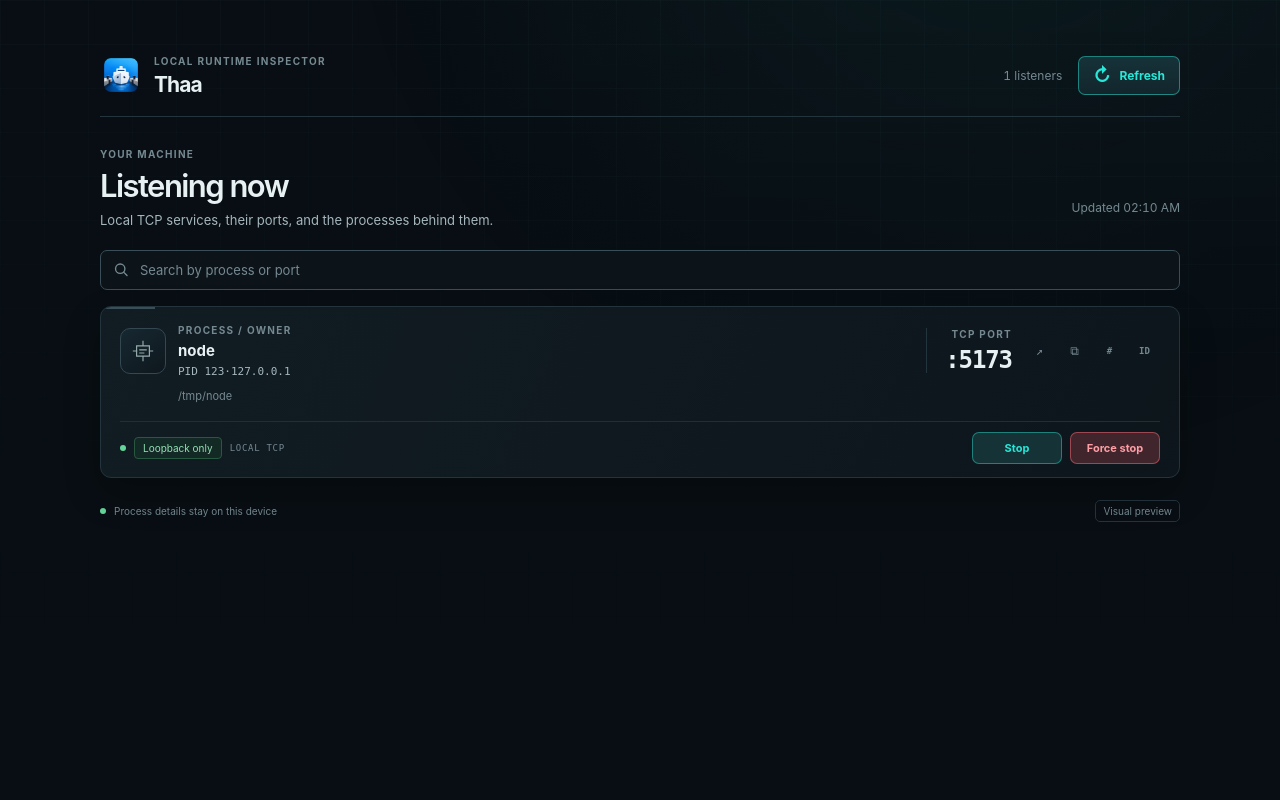
Test: runtime inspector › explains an identity mismatch and refreshes without retrying the action
This screenshot has width=1280, height=800.
Click the button "Stop": [1017, 448] box [972,432,1062,464]
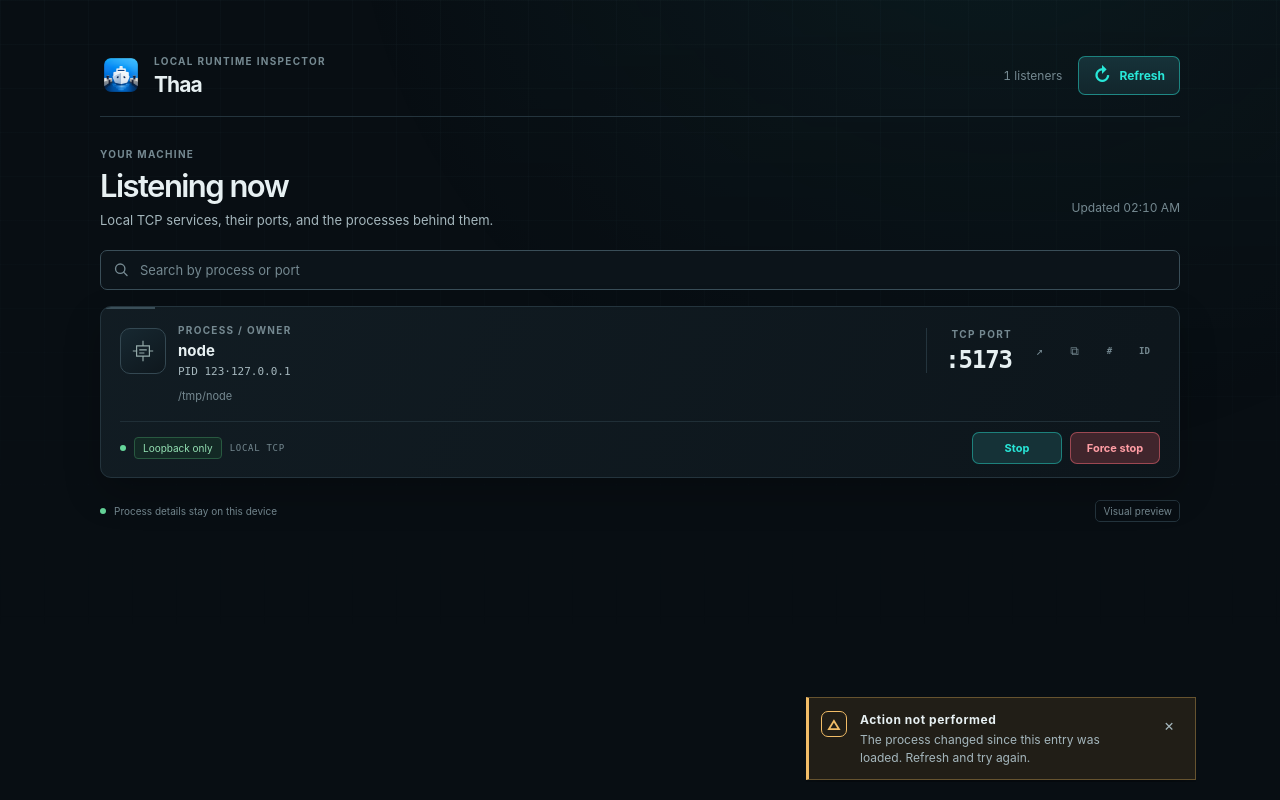
Expected: the message shows "The process changed since this entry was loaded", [860,732,1100,765]
